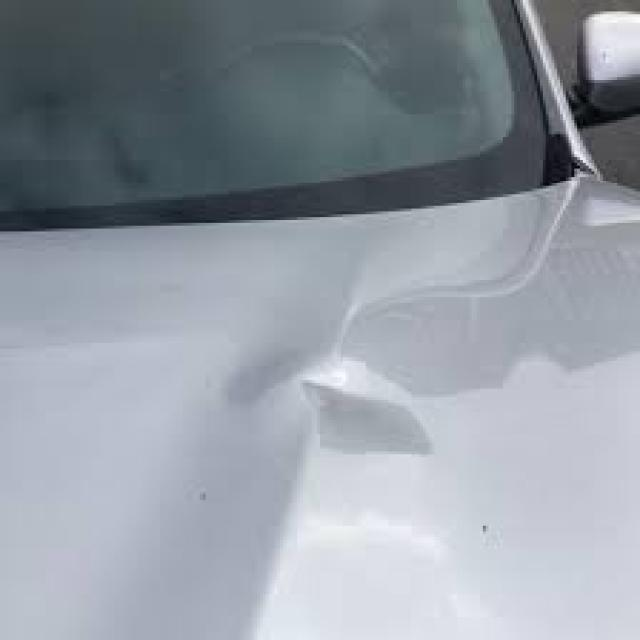car damage: (210, 344, 445, 546), (344, 272, 545, 401), (523, 169, 640, 375)
